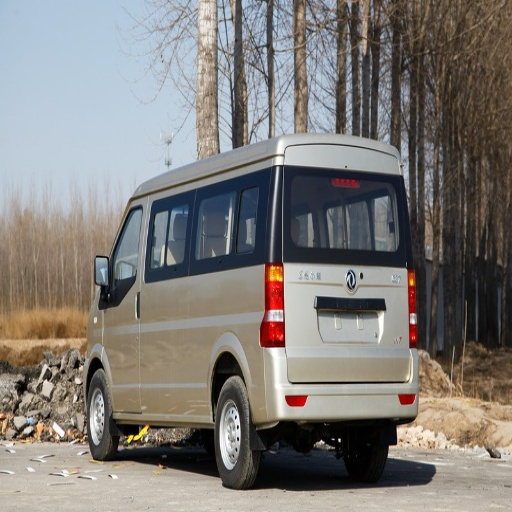back_bumper: (255, 349, 419, 422)
back_glass: (331, 199, 396, 249)
back_left_light: (259, 261, 283, 347)
back_right_door: (197, 185, 250, 258)
tailgate: (284, 246, 408, 360)
trunk: (277, 268, 410, 380), (158, 273, 266, 403)
